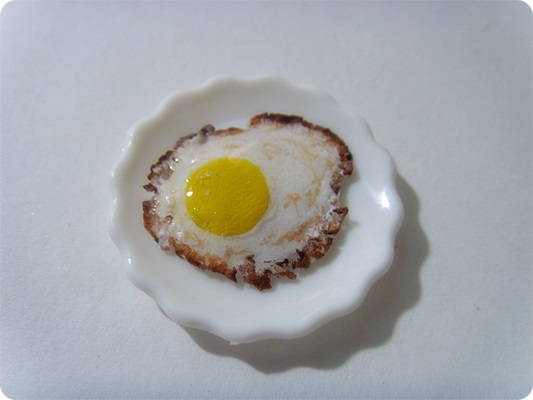fried egg: (149, 120, 367, 279)
